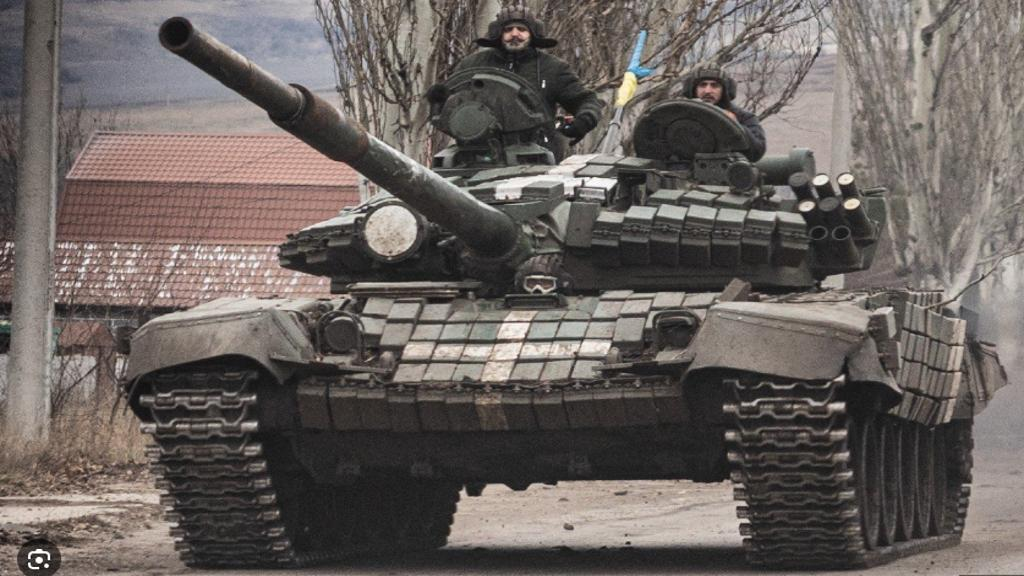TANK: (121, 13, 978, 571)
